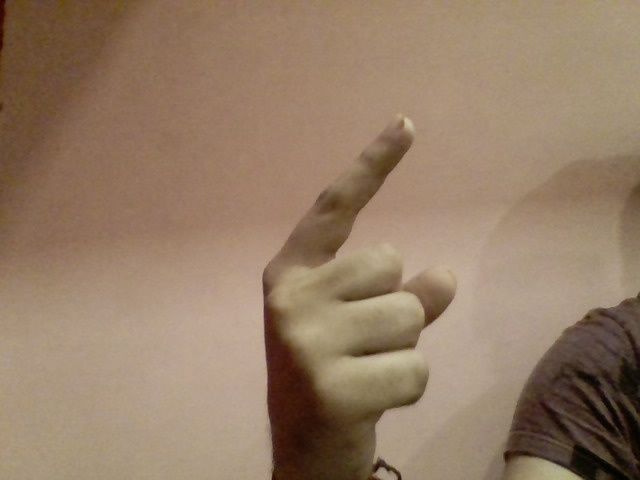z: (246, 107, 469, 480)
